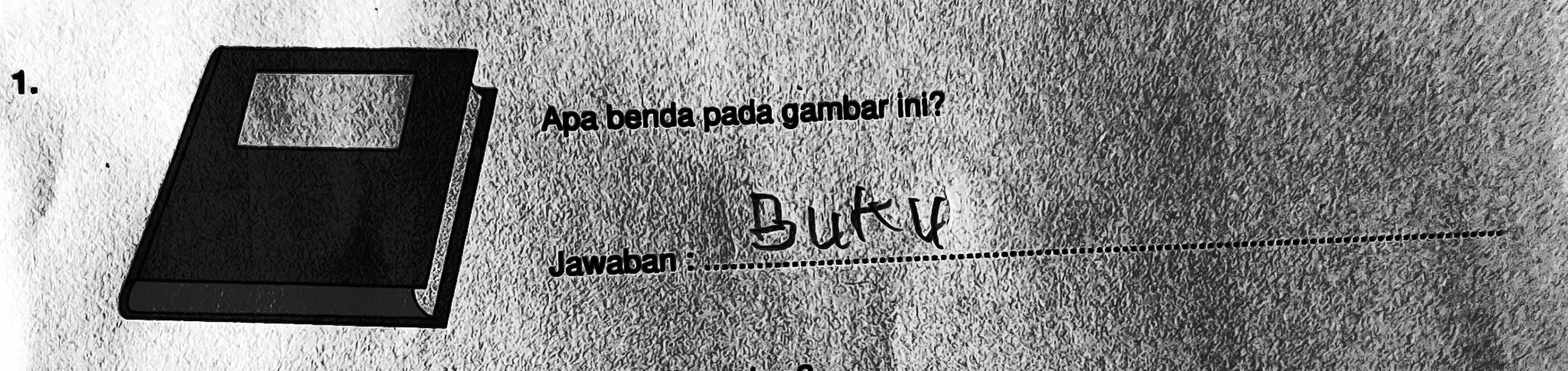jawaban: (745, 172, 968, 258)
